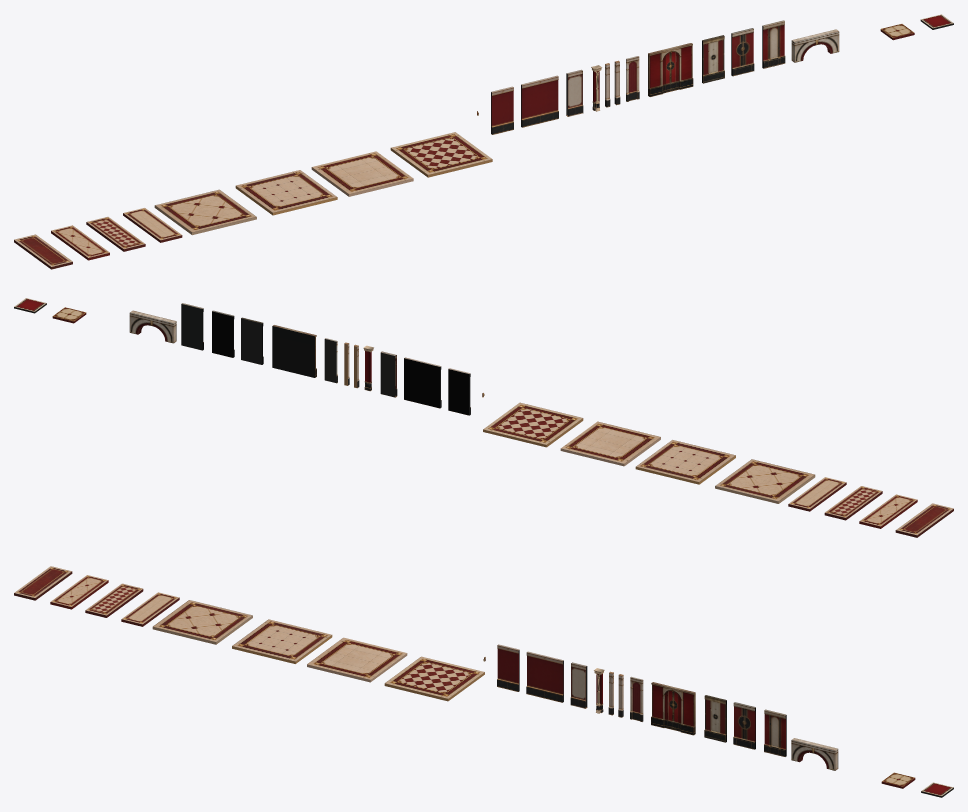
File: modules.glb
3 renders of one model, top to bottom at view 1: azimuth 30°, elevation 25°; view 2: azimuth 150°, elevation 25°; view 3: azimuth 330°, elevation 25°, orthographic.
Visible parts, largest first — view 1: Floor_02, Floor_03, Floor_04, Floor_01, Wall_01, Wall_03, S-3.002, S-3, S-1.001, S-3.001, Floor_05, Floor_06 (+5 smaller); view 2: Floor_01, Floor_04, Floor_02, Floor_03, Wall_01, Wall_03, S-1.001, S-3.002, S-3, S-3.001, Floor_05, Floor_06 (+5 smaller); view 3: Floor_01, Floor_02, Floor_03, Floor_04, Wall_01, Wall_03, S-1.001, S-3.002, S-3.001, S-3, Floor_05, Floor_06 (+5 smaller).
Part boxes in pixels (bbox=[...]): Floor_02: bbox=[311, 151, 413, 196]; Floor_03: bbox=[235, 170, 337, 215]; Floor_04: bbox=[154, 189, 256, 235]; Floor_01: bbox=[390, 132, 492, 177]; Wall_01: bbox=[648, 43, 693, 96]; Wall_03: bbox=[521, 75, 558, 127]; S-3.002: bbox=[762, 20, 785, 68]; S-3: bbox=[731, 28, 754, 76]; S-1.001: bbox=[491, 86, 513, 134]; S-3.001: bbox=[702, 35, 724, 83]; Floor_05: bbox=[123, 208, 182, 242]; Floor_06: bbox=[86, 217, 145, 251]; Floor_01: bbox=[483, 402, 583, 447]; Floor_04: bbox=[715, 459, 815, 503]; Floor_02: bbox=[560, 421, 660, 466]; Floor_03: bbox=[635, 440, 735, 484]; Wall_01: bbox=[272, 325, 316, 377]; Wall_03: bbox=[404, 357, 441, 408]; S-1.001: bbox=[448, 368, 470, 415]; S-3.002: bbox=[181, 303, 203, 350]; S-3: bbox=[212, 310, 234, 357]; S-3.001: bbox=[241, 317, 263, 364]; Floor_05: bbox=[788, 477, 846, 511]; Floor_06: bbox=[824, 486, 882, 520]; Floor_01: bbox=[384, 656, 484, 701]; Floor_02: bbox=[307, 637, 407, 682]; Floor_03: bbox=[232, 619, 332, 663]; Floor_04: bbox=[152, 600, 252, 644]; Wall_01: bbox=[651, 682, 695, 735]; Wall_03: bbox=[526, 651, 563, 702]; S-1.001: bbox=[497, 644, 519, 691]; S-3.002: bbox=[764, 709, 786, 756]; S-3.001: bbox=[704, 695, 726, 742]; S-3: bbox=[733, 702, 755, 749]; Floor_05: bbox=[121, 592, 179, 626]; Floor_06: bbox=[85, 583, 143, 617].
Size of the model in its own units: 209 by 9.77 by 14.67.
1 material, 1 textured.
